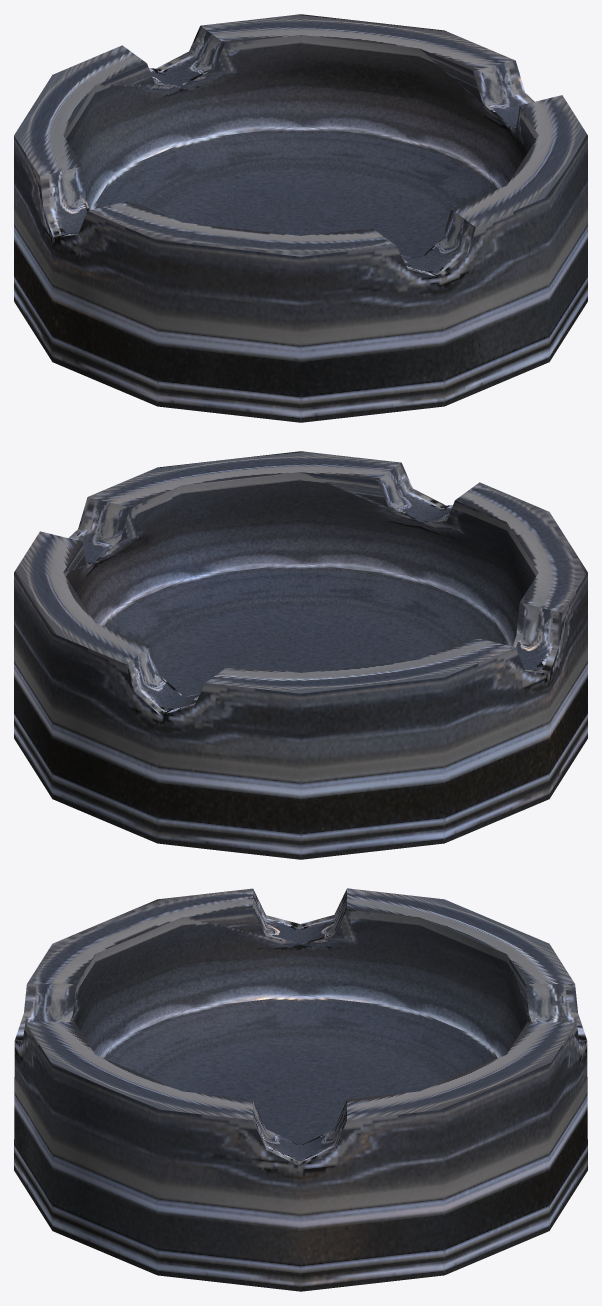
Rendered from ashtray01.fbx.
3 views of the same model, one above another, from view 1: azimuth 30°, elevation 25°; view 2: azimuth 150°, elevation 25°; view 3: azimuth 270°, elevation 25° (orthographic).
Parts seen in each view (by area): view 1: Cylinder.001; view 2: Cylinder.001; view 3: Cylinder.001.
Boxes of the visible parts, box(x1,y1,x2,y2) form: Cylinder.001: box(14, 14, 587, 422); Cylinder.001: box(14, 451, 587, 859); Cylinder.001: box(14, 888, 587, 1291).
Size of the model in its own units: 0.118 by 0.118 by 0.0377.
Materials: 1 (1 with a texture image).
